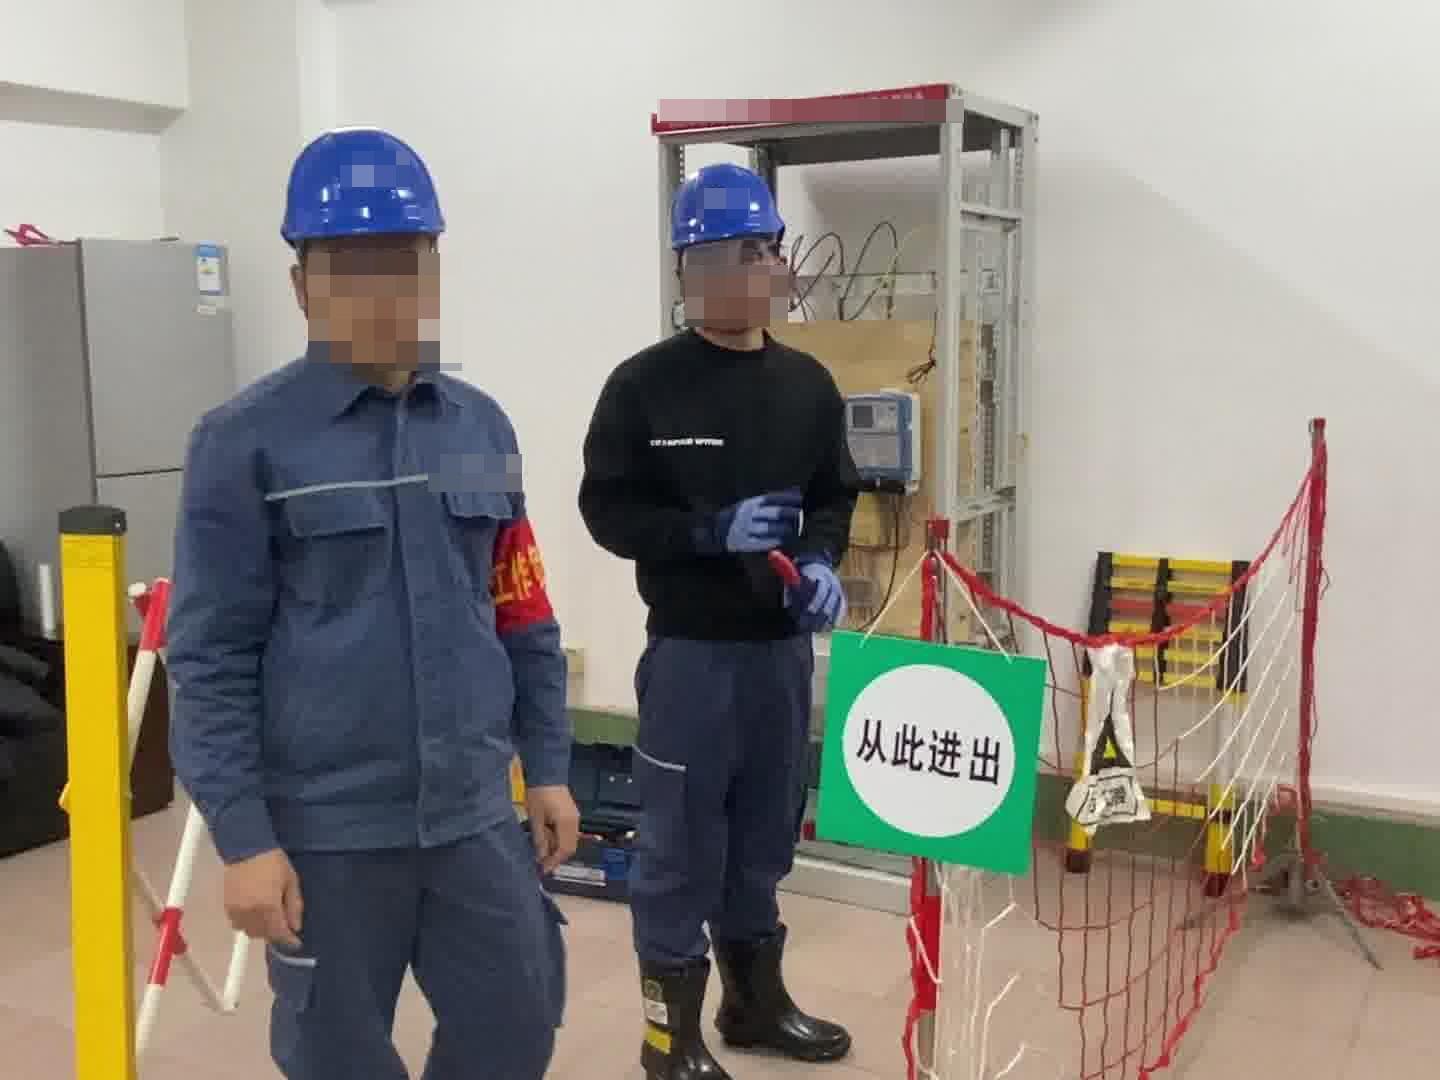badge: (488, 517, 556, 639)
downsuit: (248, 858, 565, 1080), (625, 642, 815, 969)
glove: (687, 496, 801, 566), (791, 559, 852, 628)
goggles: (672, 239, 786, 333)
halt: (270, 126, 458, 368), (665, 162, 794, 343)
hand: (219, 852, 309, 951), (528, 789, 584, 874)
intosign: (837, 633, 1031, 870)
person: (155, 118, 586, 1079), (584, 158, 866, 1080)
shoe: (637, 952, 853, 1080)
upcloth: (578, 331, 854, 639)
upsuit: (164, 329, 576, 849)
